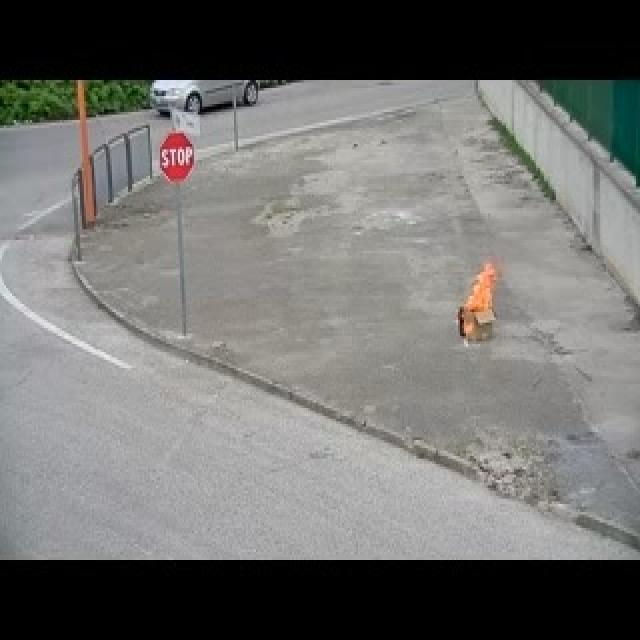fire: (466, 262, 496, 318)
